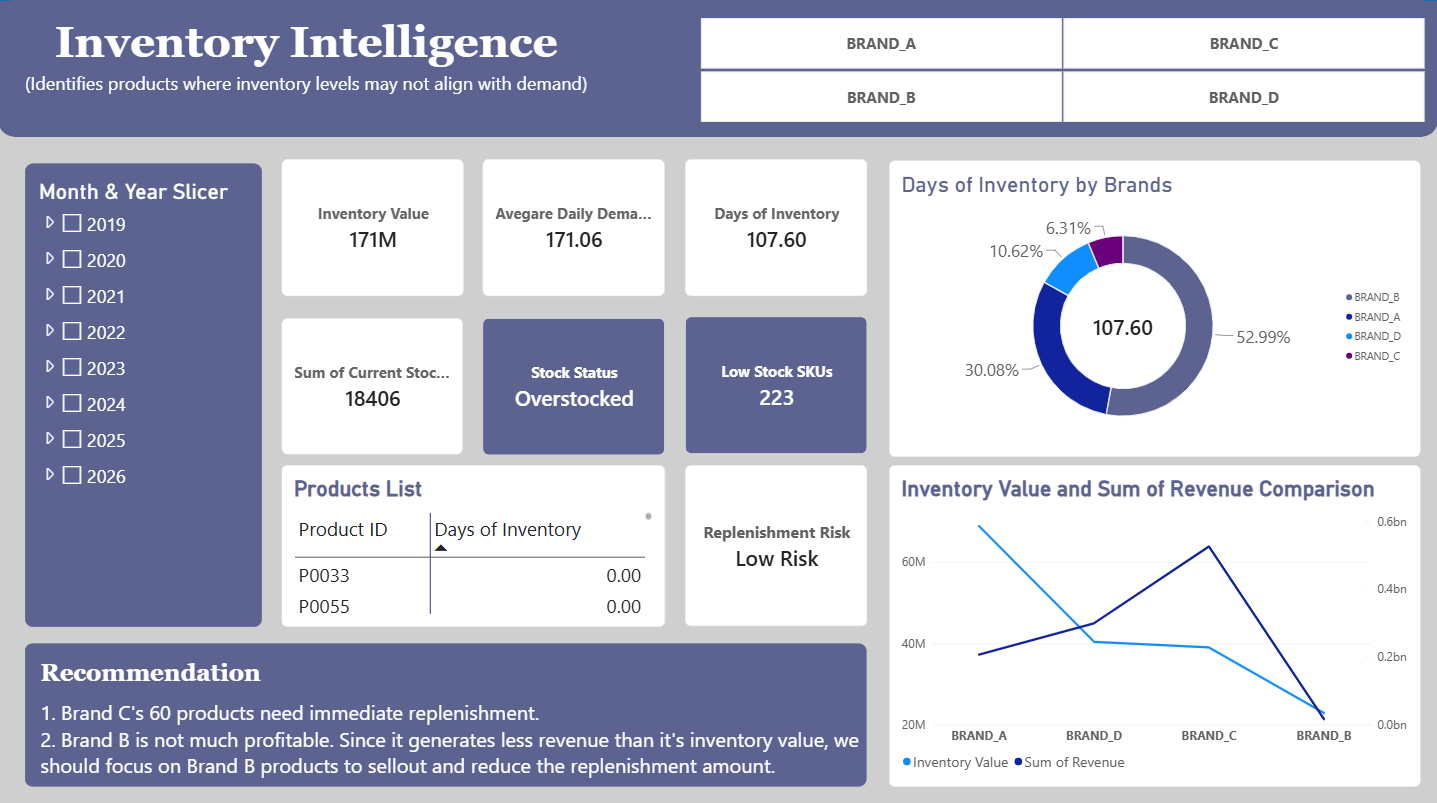

This screenshot's page, from the dashboard's own definition file:
{"tool":"powerbi","page":{"name":"Page 3","canvas":[1920,1080],"ordinal":2},"visuals":[{"type":"shape","box":[0,0,1920,42.5],"z":0},{"type":"shape","box":[0,0,1920,182.5],"z":1000},{"type":"textbox","box":[75,22.5,692.5,67.5],"z":2000},{"type":"cardVisual","fields":{"Data":["Sum(current_stocks.Current Stock Qty)"]},"box":[377,424.7,242.5,182.5],"z":3000},{"type":"cardVisual","fields":{"Data":["current_stocks.Inventory Value"]},"box":[377.5,212.5,243,183],"z":4000},{"type":"cardVisual","fields":{"Data":["current_stocks.Avegare Daily Demand"]},"box":[645,212.5,243,183],"z":5000},{"type":"cardVisual","fields":{"Data":["current_stocks.Days of Inventory"]},"box":[915,212.5,243,183],"z":6000},{"type":"cardVisual","fields":{"Data":["current_stocks.Stock Status"]},"box":[645.1,424.7,243,183],"z":7000},{"type":"cardVisual","fields":{"Data":["current_stocks.Low Stock SKUs"]},"box":[915.3,422.5,243,183],"z":8000},{"type":"donutChart","title":"Days of Inventory by Brands","fields":{"Category":["supplier.Brand"],"Y":["current_stocks.Days of Inventory"]},"box":[1187.9,213.5,708.6,395.2],"z":9000},{"type":"slicer","fields":{"Values":["supplier.Brand"]},"box":[915,22.5,1005,142.5],"z":10000},{"type":"slicer","fields":{"Values":["current_stocks.Last Restock Date.Variation.Date Hierarchy.Year","current_stocks.Last Restock Date.Variation.Date Hierarchy.Month"]},"box":[36.3,218,315.7,617.8],"z":11000},{"type":"tableEx","title":"Products List","fields":{"Values":["current_stocks.Product ID","current_stocks.Days of Inventory"]},"box":[377,620.1,511,215.8],"z":12000},{"type":"textbox","title":"Recommendation","box":[36.3,858.6,1122,190.8],"z":13000},{"type":"lineChart","title":"Inventory Value and Sum of Revenue Comparison","fields":{"Category":["supplier.Brand"],"Y":["current_stocks.Inventory Value"],"Y2":["Sum(sales.Revenue)"]},"box":[1187.9,620.1,708.6,429.3],"z":14000},{"type":"cardVisual","fields":{"Data":["supplier.Replenishment Risk"]},"box":[915.3,620.1,243,215.8],"z":15000},{"type":"textbox","box":[36,94,770,46],"z":16000}]}

Visuals, with their boxes in screenshot pixels (x1, y1, x2, y2), scaled from the page's 1920x1080 canvas onto the 1437x803 screenshot:
shape: BBox(0, 0, 1436, 32)
shape: BBox(0, 0, 1436, 136)
textbox: BBox(56, 17, 574, 67)
cardVisual - Sum(current_stocks.Current Stock Qty): BBox(282, 316, 464, 451)
cardVisual - current_stocks.Inventory Value: BBox(283, 158, 464, 294)
cardVisual - current_stocks.Avegare Daily Demand: BBox(483, 158, 665, 294)
cardVisual - current_stocks.Days of Inventory: BBox(685, 158, 867, 294)
cardVisual - current_stocks.Stock Status: BBox(483, 316, 665, 452)
cardVisual - current_stocks.Low Stock SKUs: BBox(685, 314, 867, 450)
"Days of Inventory by Brands" donutChart: BBox(889, 159, 1419, 453)
slicer - supplier.Brand: BBox(685, 17, 1436, 123)
slicer - current_stocks.Last Restock Date.Variation.Date Hierarchy.Year x current_stocks.Last Restock Date.Variation.Date Hierarchy.Month: BBox(27, 162, 263, 621)
"Products List" tableEx: BBox(282, 461, 665, 622)
"Recommendation" textbox: BBox(27, 638, 867, 780)
"Inventory Value and Sum of Revenue Comparison" lineChart: BBox(889, 461, 1419, 780)
cardVisual - supplier.Replenishment Risk: BBox(685, 461, 867, 622)
textbox: BBox(27, 70, 603, 104)
